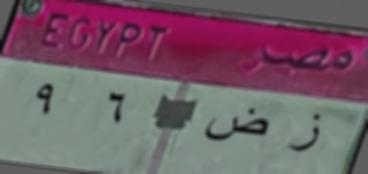6: (103, 85, 128, 130)
9: (25, 74, 58, 124)
daad: (206, 102, 268, 153)
zay: (286, 109, 324, 165)
